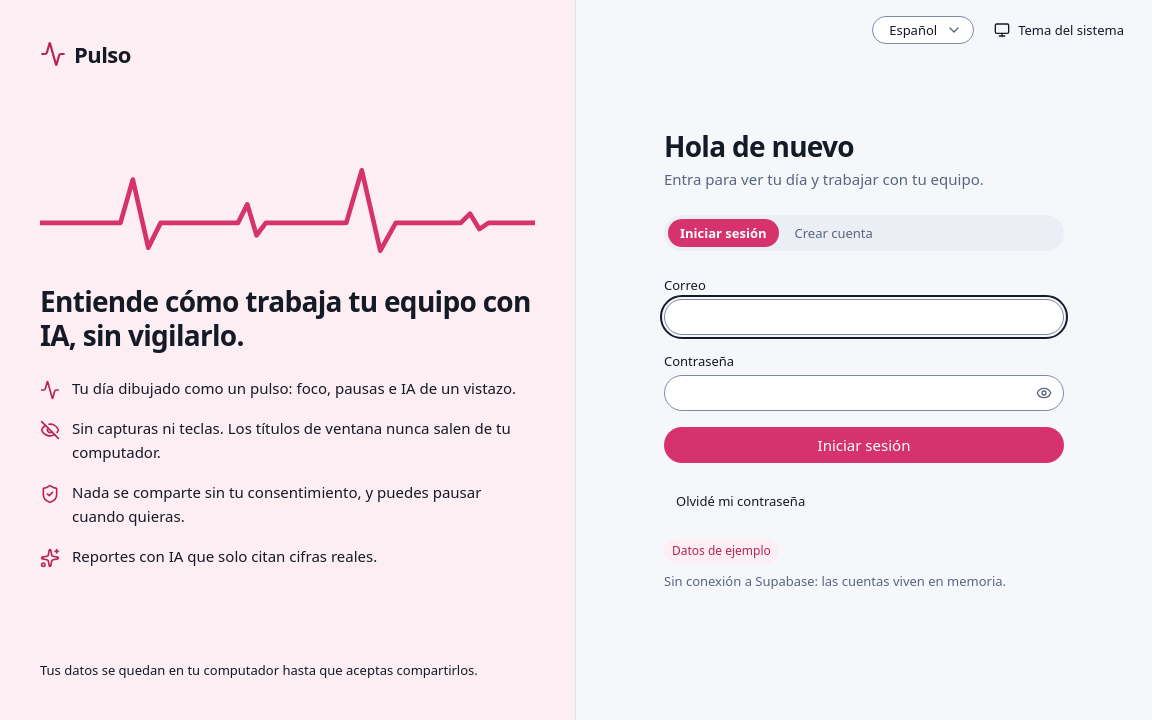
Test: idioma (ADR-0015, AC-34) › el acceso tiene selector de idioma; al cambiar, el foco vuelve al selector y se anuncia (F-03, F-08)
The width and height of the screenshot is (1152, 720).
Select "English" in the dropdown named "Idioma (Language)" at (923, 30), box 872,16 -> 974,44
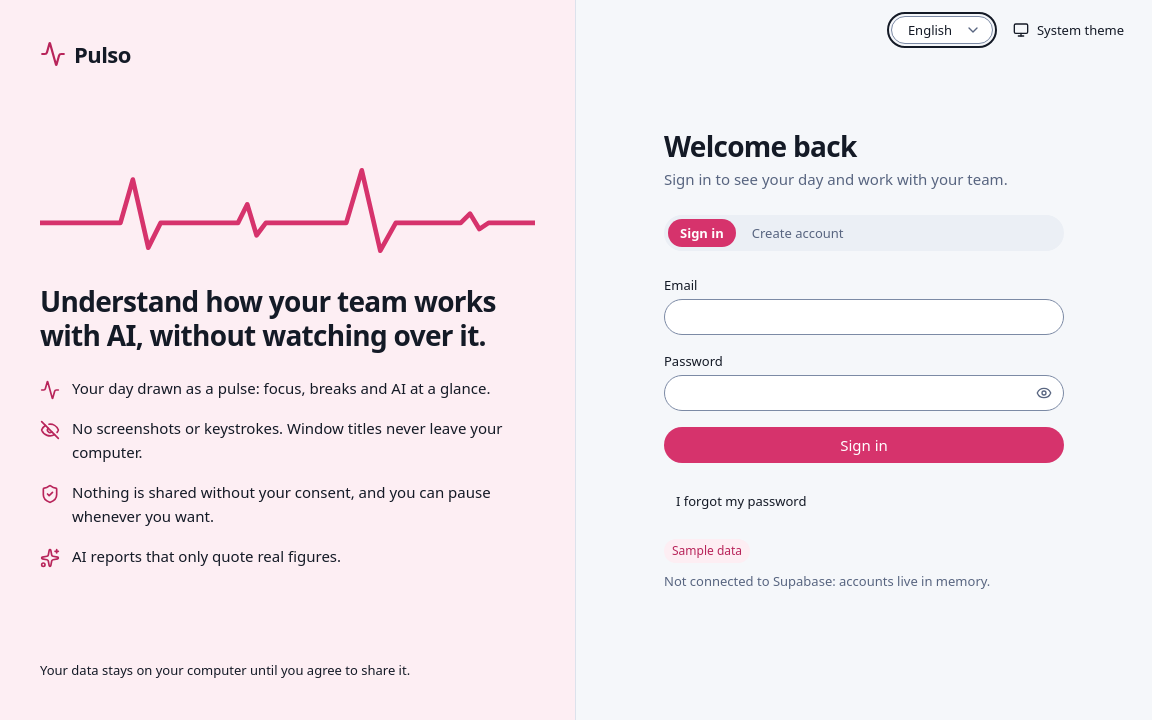
Now the button "Sign in" is shown, box 664,427 -> 1064,463
